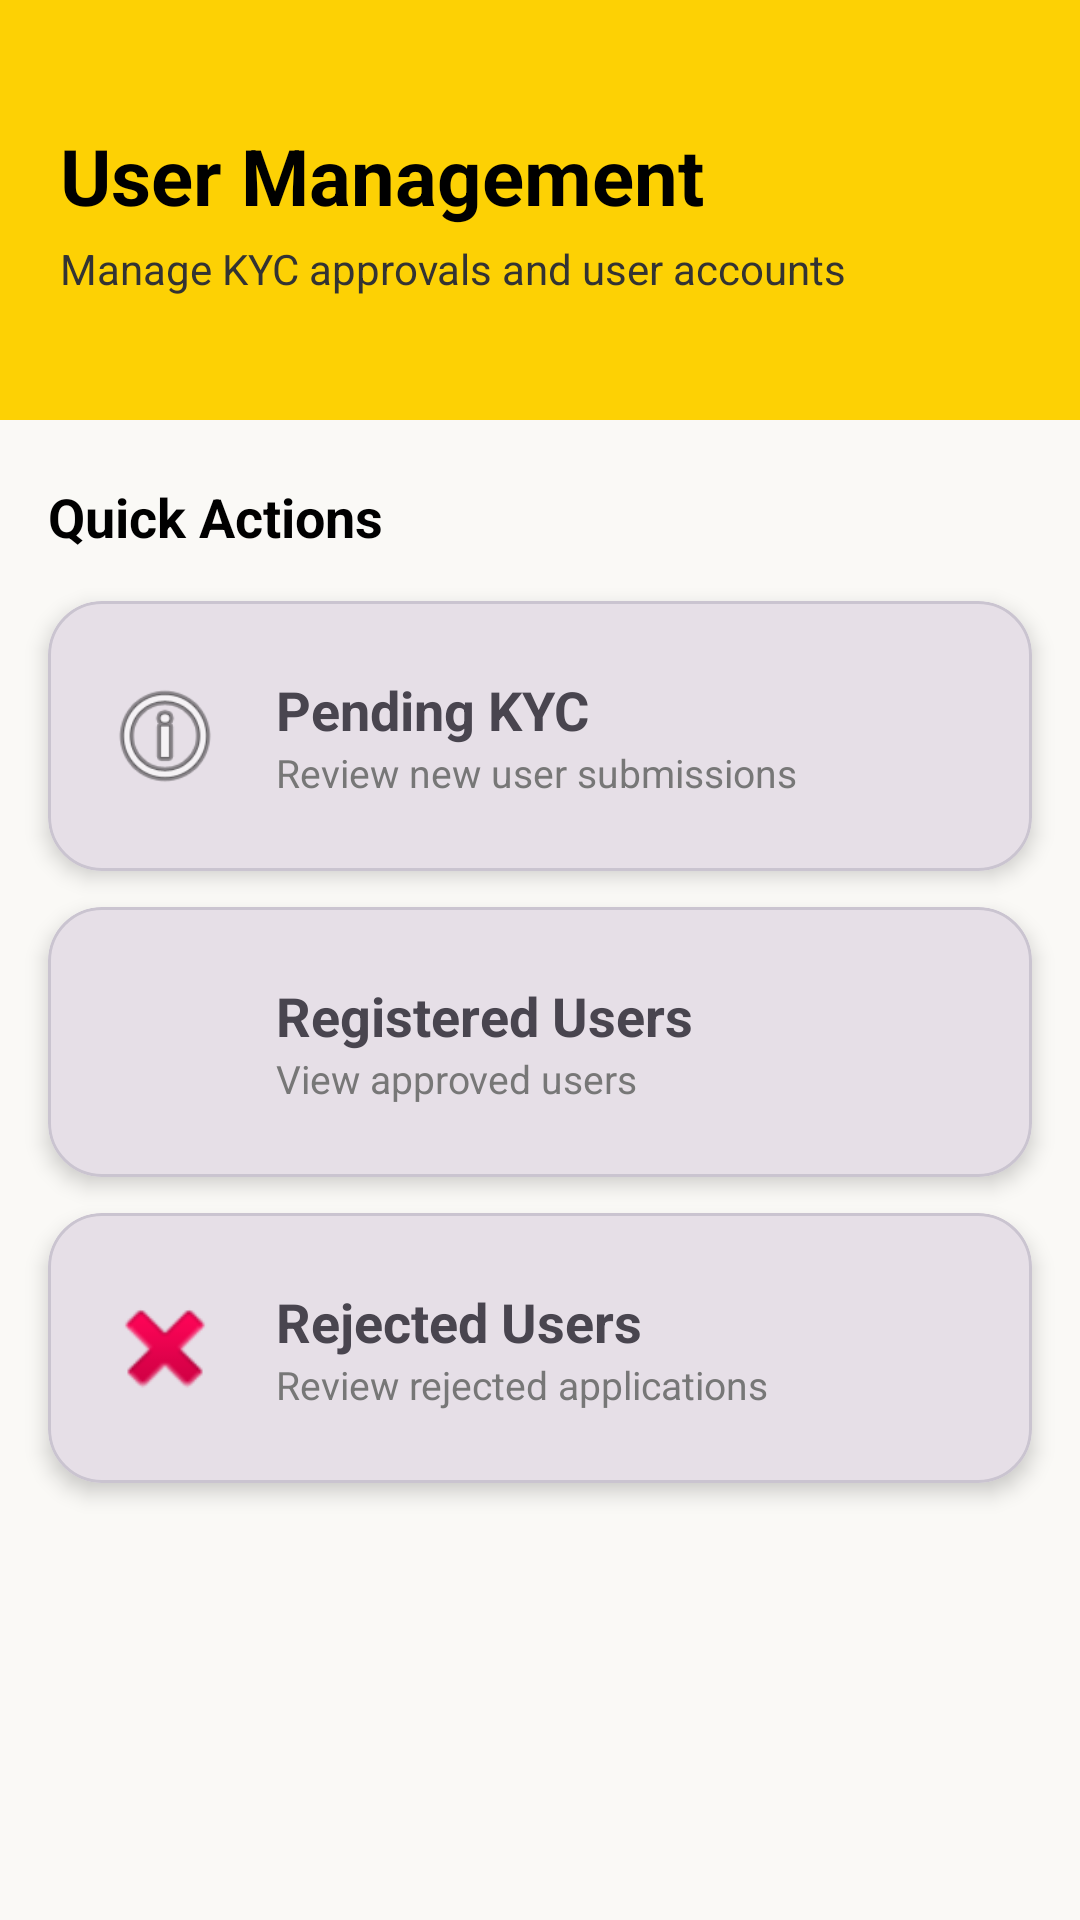

Icons on this 1080 x 1920 Android screen, each with the point to tap as (x=x, y=y):
delete: (x=165, y=1348)
info details: (x=165, y=736)
